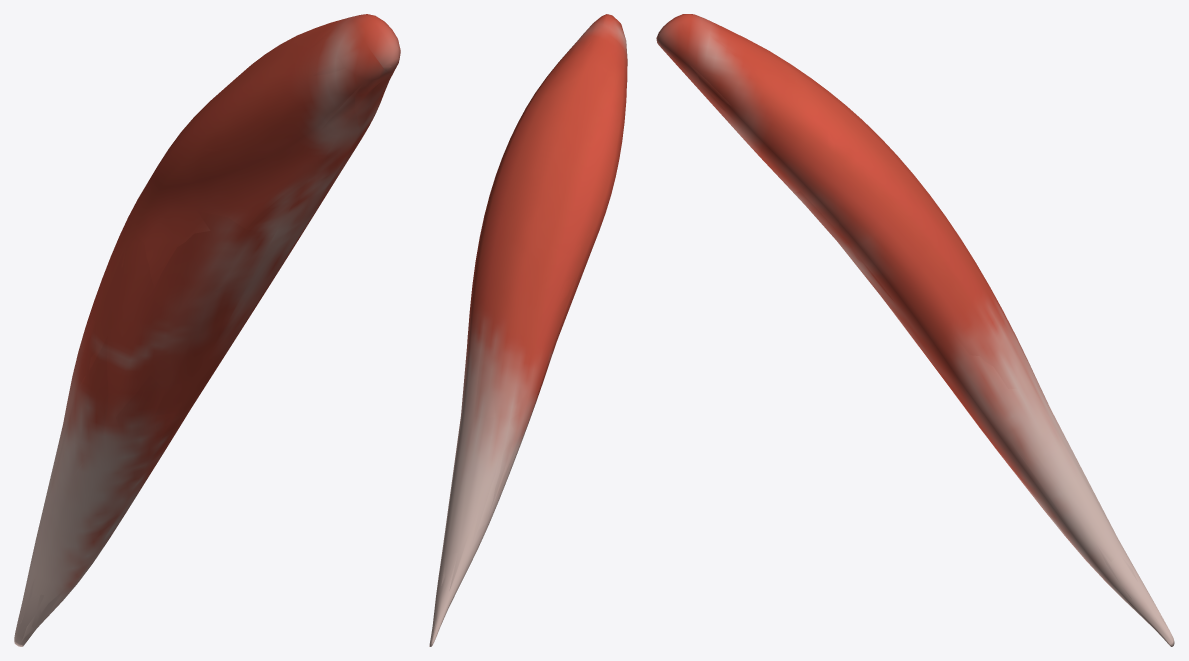
File: L Gastrocnemius.fbx
3 renders of one model, left to right at view 1: azimuth 30°, elevation 25°; view 2: azimuth 150°, elevation 25°; view 3: azimuth 270°, elevation 25°, orthographic. The views are drawn at different scales.
Visible parts, largest first — view 1: L Gastrocnemius, L Gastrocnemius low; view 2: L Gastrocnemius, L Gastrocnemius low; view 3: L Gastrocnemius, L Gastrocnemius low.
Part boxes in pixels (box(x1,y1,x2,y2)): L Gastrocnemius: box(14, 14, 400, 646); L Gastrocnemius low: box(20, 14, 395, 646); L Gastrocnemius: box(429, 14, 627, 646); L Gastrocnemius low: box(433, 15, 626, 633); L Gastrocnemius: box(656, 14, 1174, 646); L Gastrocnemius low: box(661, 14, 1166, 640).
Bounding box in the file's own units: 3.24 × 14.76 × 10.86.
